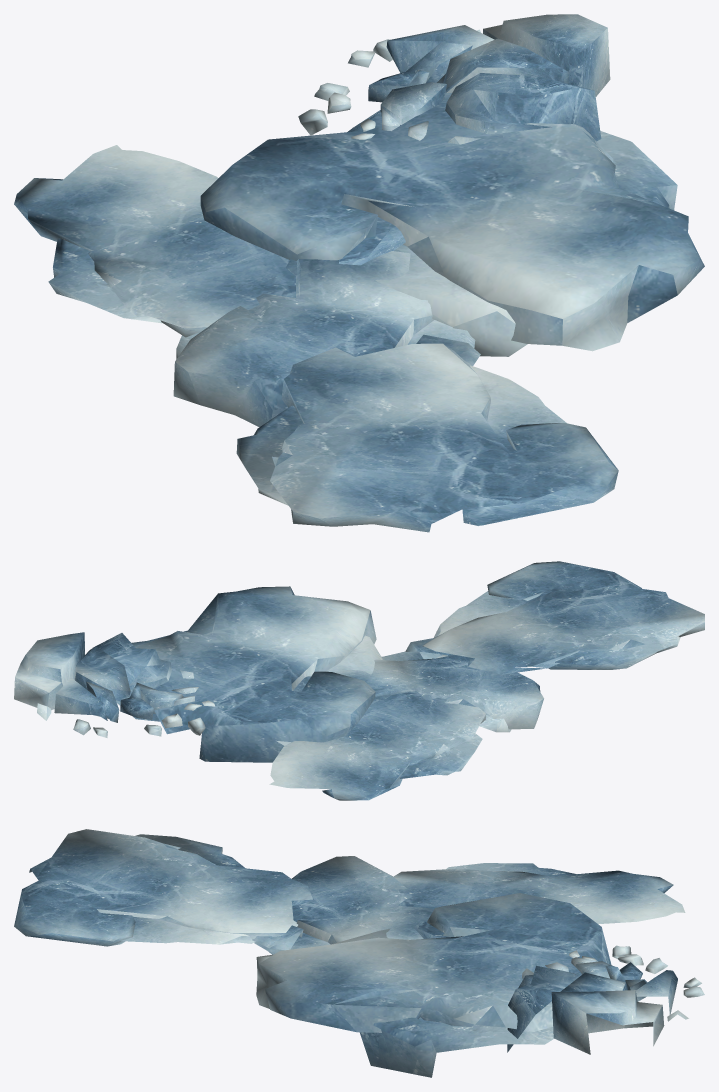
Rendered from S_Rock_White038_1.FBX.
3 views of the same model, one above another, from view 1: azimuth 30°, elevation 25°; view 2: azimuth 150°, elevation 25°; view 3: azimuth 270°, elevation 25° (orthographic). The views are drawn at different scales.
Parts seen in each view (by area): view 1: S_Rock_White038_001, S_Rock_White038_004, S_Rock_White038_003, S_Rock_White051_001, S_Rock_White038_002; view 2: S_Rock_White038_001, S_Rock_White038_004, S_Rock_White038_003, S_Rock_White051_001, S_Rock_White038_002; view 3: S_Rock_White038_001, S_Rock_White038_004, S_Rock_White051_001, S_Rock_White038_003, S_Rock_White038_002.
Boxes of the visible parts, box(x1,y1,x2,y2) form: S_Rock_White038_001: box(200, 93, 704, 356); S_Rock_White038_004: box(236, 343, 618, 532); S_Rock_White038_003: box(14, 145, 405, 337); S_Rock_White051_001: box(298, 14, 610, 144); S_Rock_White038_002: box(173, 251, 480, 426); S_Rock_White038_001: box(117, 586, 382, 762); S_Rock_White038_004: box(422, 561, 704, 674); S_Rock_White038_003: box(269, 676, 485, 800); S_Rock_White051_001: box(14, 632, 215, 737); S_Rock_White038_002: box(336, 638, 543, 732); S_Rock_White038_001: box(256, 893, 611, 1077); S_Rock_White038_004: box(14, 829, 312, 946); S_Rock_White051_001: box(507, 945, 704, 1054); S_Rock_White038_003: box(393, 863, 685, 938); S_Rock_White038_002: box(252, 856, 433, 954).
Bounding box in the file's own units: 1844 × 2305 × 350.
